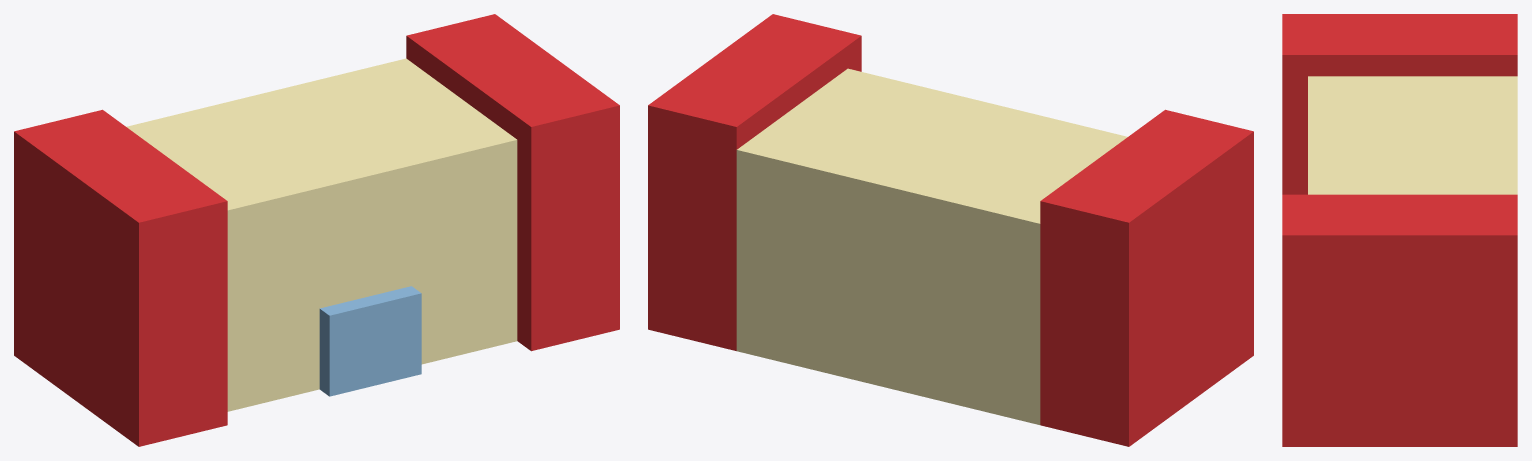
The model's file is Buillding.fbx.
3 views of the same model, side by side, from view 1: azimuth 30°, elevation 25°; view 2: azimuth 150°, elevation 25°; view 3: azimuth 270°, elevation 25° (orthographic). The views are drawn at different scales.
Parts seen in each view (by area): view 1: Cube; view 2: Cube; view 3: Cube.
Boxes of the visible parts, x1=… form: Cube: x1=14, y1=14, x2=619, y2=446; Cube: x1=648, y1=14, x2=1253, y2=446; Cube: x1=1282, y1=14, x2=1517, y2=446.
Size of the model in its own units: 400 by 178 by 180.
